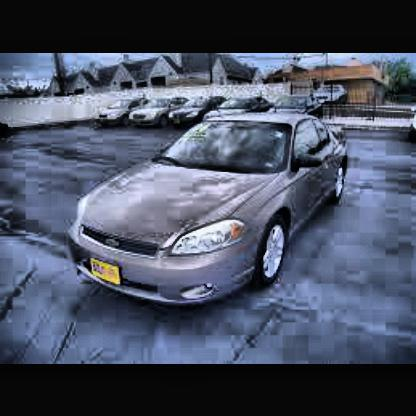Chevrolet Monte Carlo Coupe 2007: (67, 105, 354, 308)
